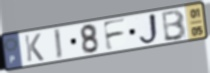8: (80, 23, 100, 55)
B: (161, 9, 188, 43)
F: (101, 17, 128, 53)
I: (53, 27, 65, 61)
J: (138, 12, 162, 46)
K: (23, 33, 46, 64)
